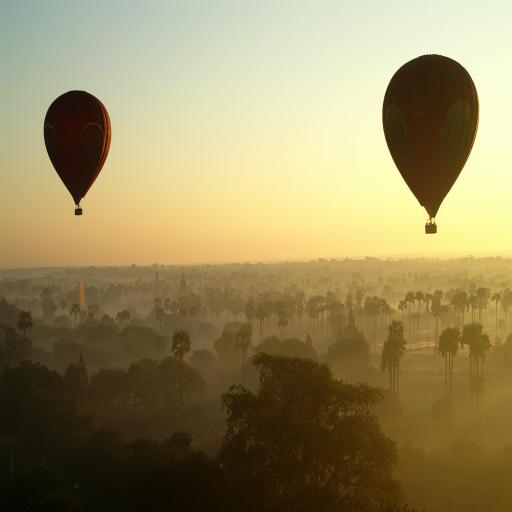hot air ballon: (381, 51, 480, 235), (44, 84, 111, 216)
